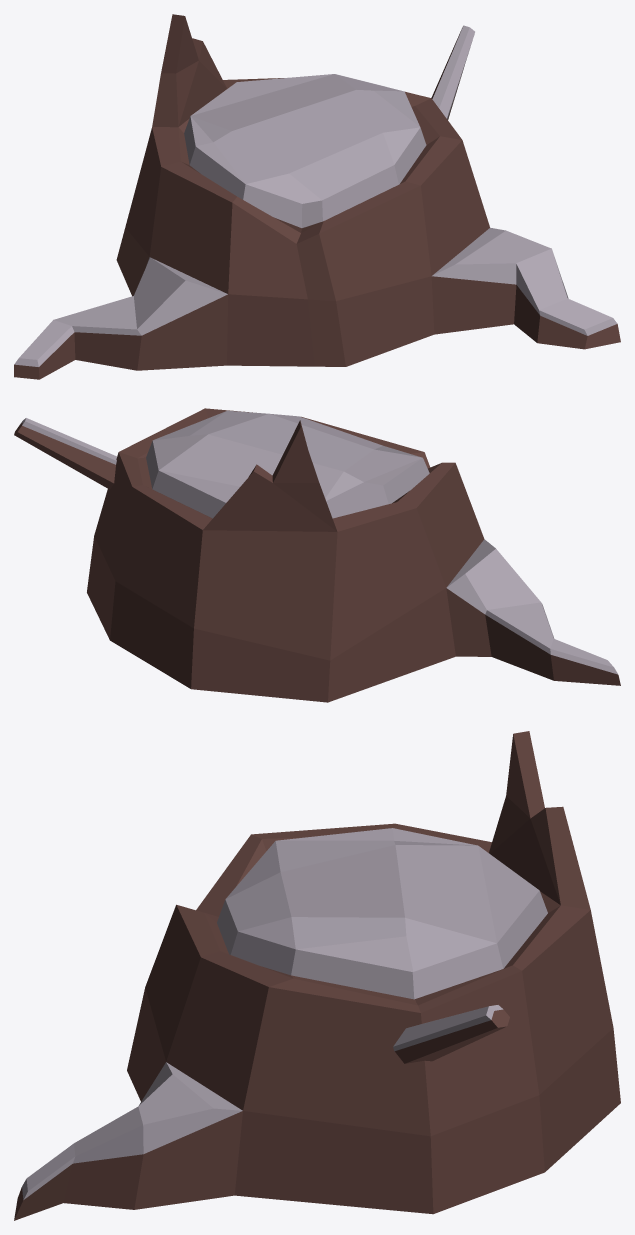
File: TreeStump_Snow.glb
3 renders of one model, top to bottom at view 1: azimuth 30°, elevation 25°; view 2: azimuth 150°, elevation 25°; view 3: azimuth 270°, elevation 25°, orthographic. The views are drawn at different scales.
Visible parts, largest first — view 1: TreeStump_Snow_Cylinder.021; view 2: TreeStump_Snow_Cylinder.021; view 3: TreeStump_Snow_Cylinder.021.
Boxes of the visible parts, left/top/right/bottom form: TreeStump_Snow_Cylinder.021: left=14, top=14, right=620, bottom=379; TreeStump_Snow_Cylinder.021: left=14, top=408, right=620, bottom=702; TreeStump_Snow_Cylinder.021: left=14, top=731, right=620, bottom=1220.
Size of the model in its own units: 1.36 by 0.6216 by 1.03.
